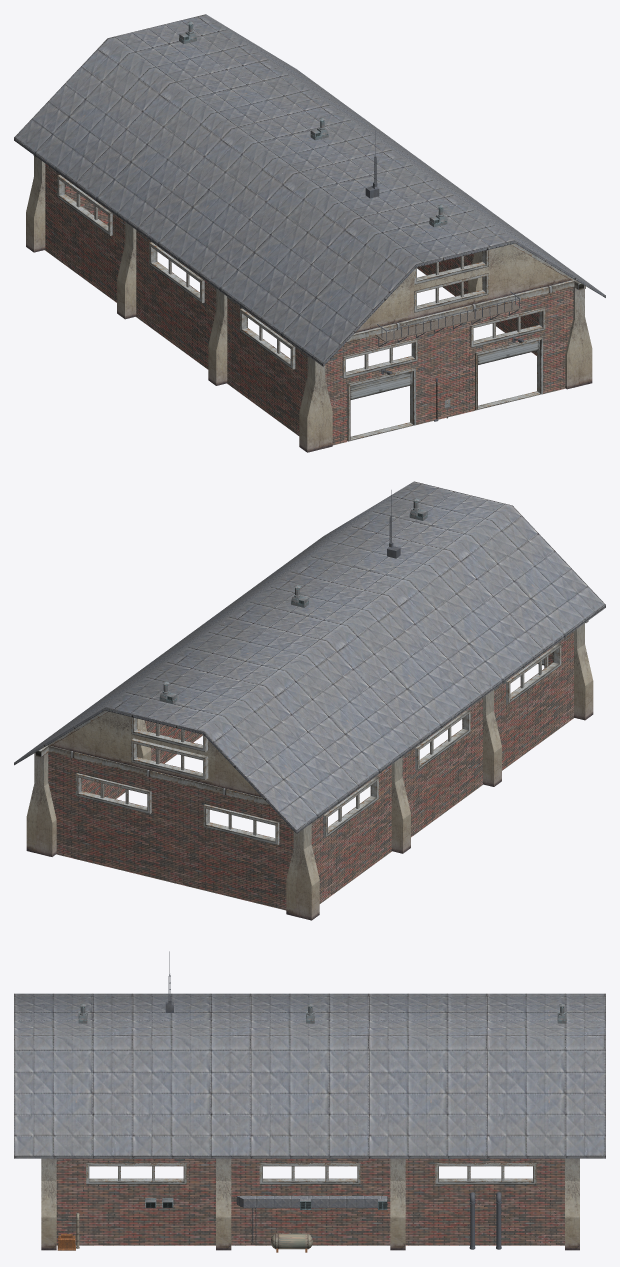
File: ind6_hall2.dae
3 views of the same model, one above another, from view 1: azimuth 30°, elevation 25°; view 2: azimuth 150°, elevation 25°; view 3: azimuth 270°, elevation 25° (orthographic). The views are drawn at different scales.
Parts seen in each view (by area): view 1: Building; view 2: Building; view 3: Building.
Part boxes in pixels (x1,y1,x2,y2): Building: [14, 14, 605, 452]; Building: [14, 481, 605, 920]; Building: [14, 951, 605, 1252].
Bounding box in the file's own units: 23.49 × 18.81 × 43.5.
